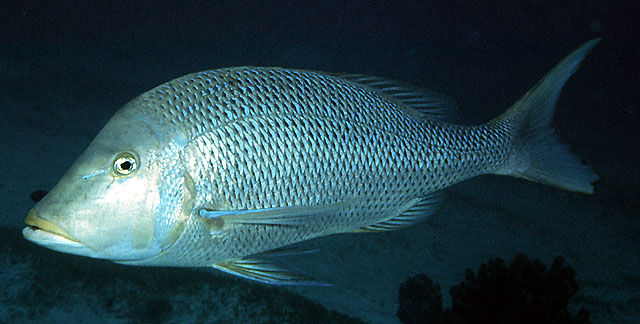fish: (21, 38, 602, 287)
